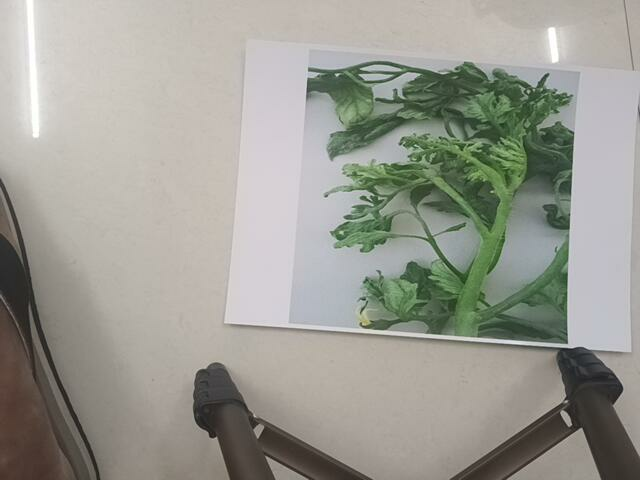Tomamto_Mosaic_virus: (305, 51, 574, 349)
